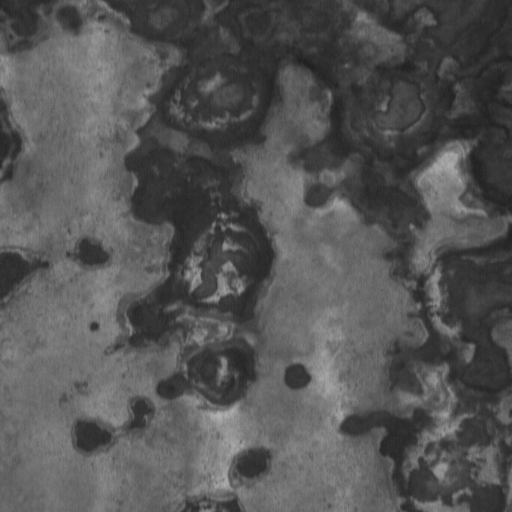aokeng: (123, 42, 279, 323), (158, 333, 262, 414)
